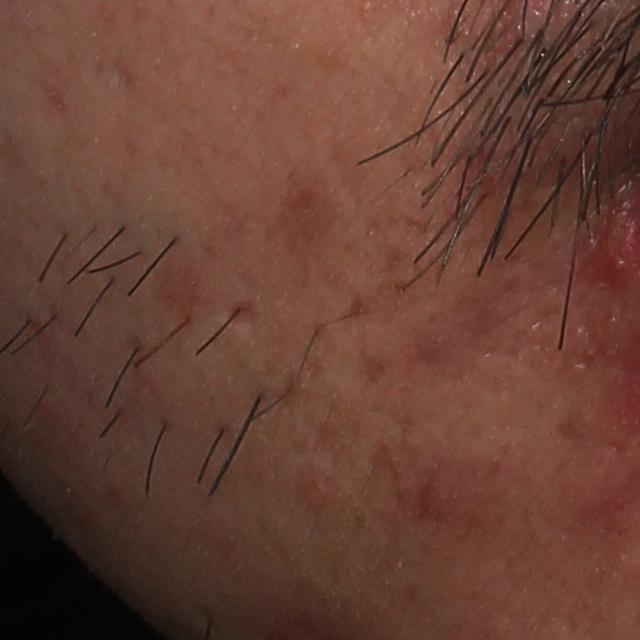papule: (299, 469, 344, 515)
